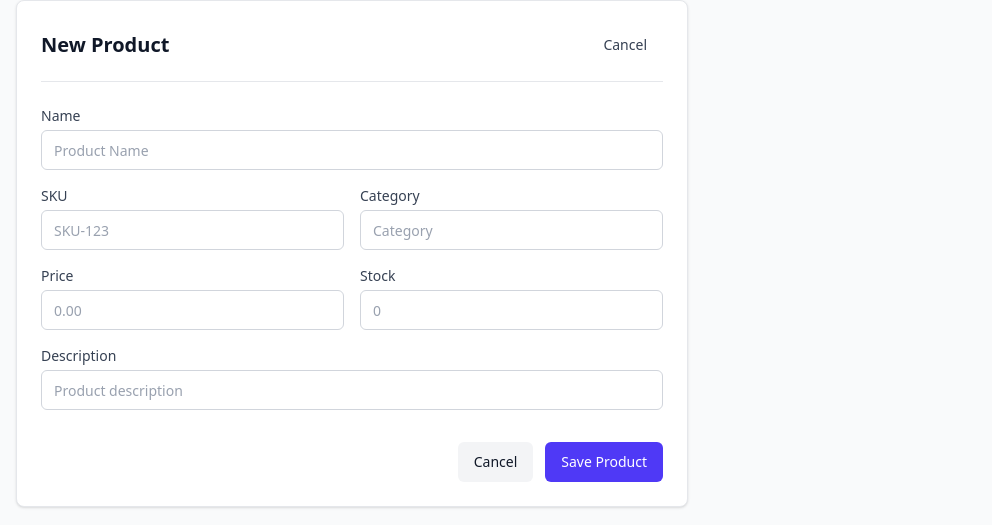
Scenario: ProductFormPage › handles submission error with message
Type "New Product" into the field labelled "Name" at coordinates (352, 150), box [41,130,663,170]
Type "SKU-1" into the field labelled "SKU" at coordinates (192, 230), box [41,210,344,250]
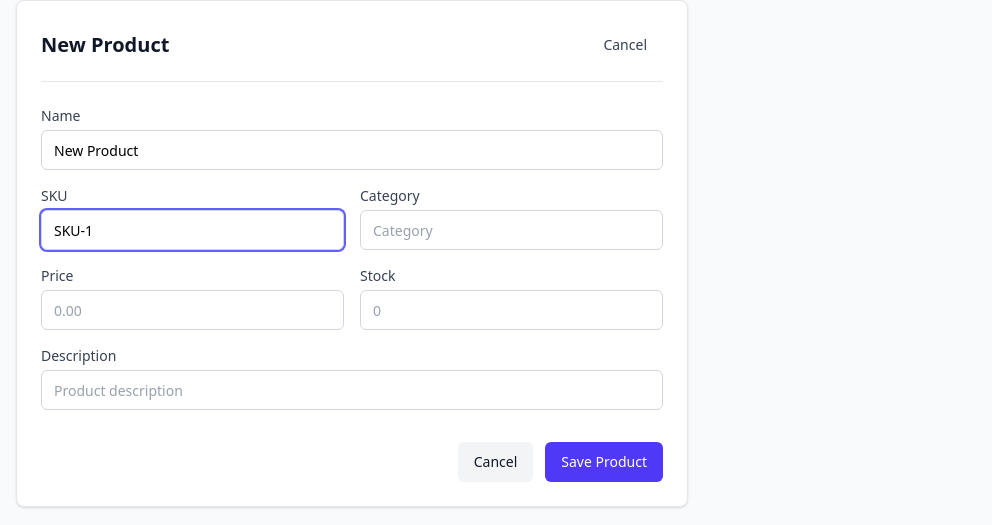
Type "C1" into the field labelled "Category" at coordinates (512, 230), box [360,210,663,250]
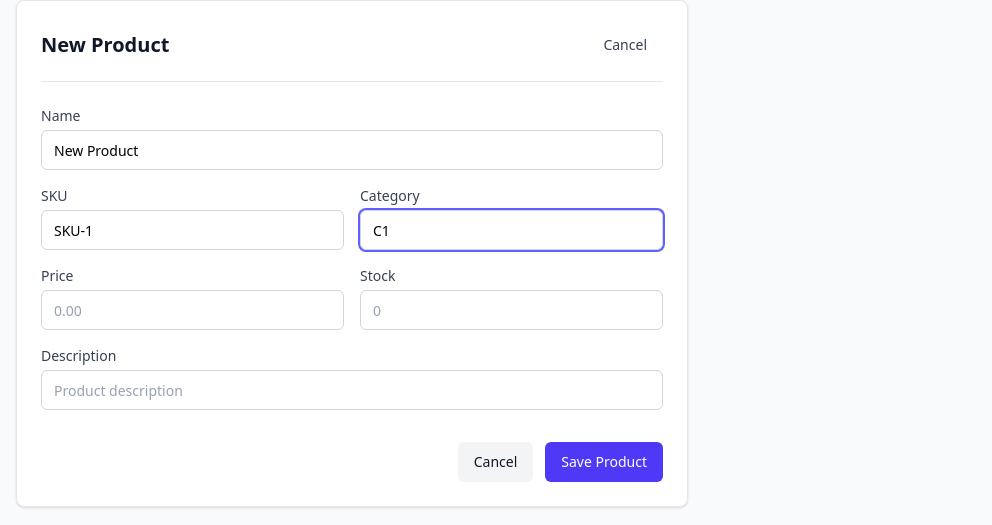
Type "150" into the number field labelled "Price" at coordinates (192, 310), box [41,290,344,330]
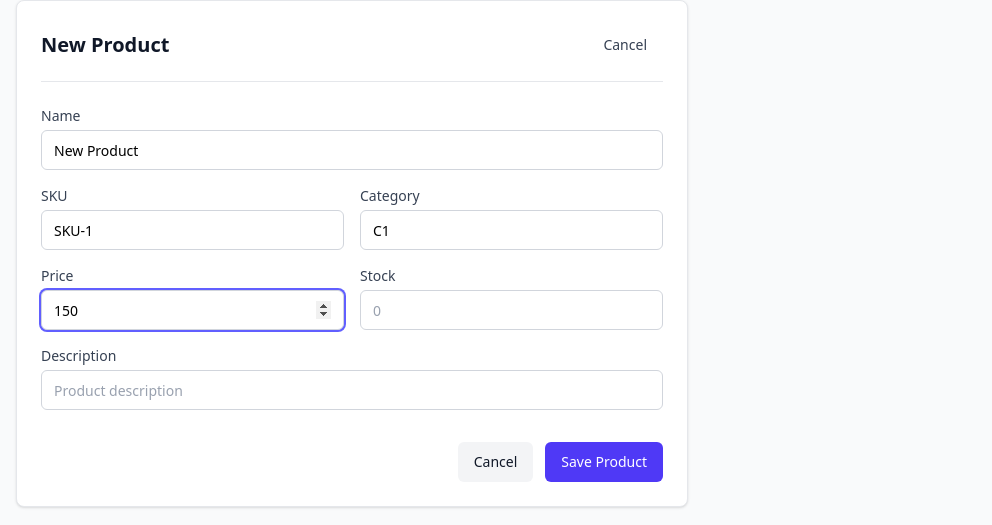
Type "10" into the number field labelled "Stock" at coordinates (512, 310), box [360,290,663,330]
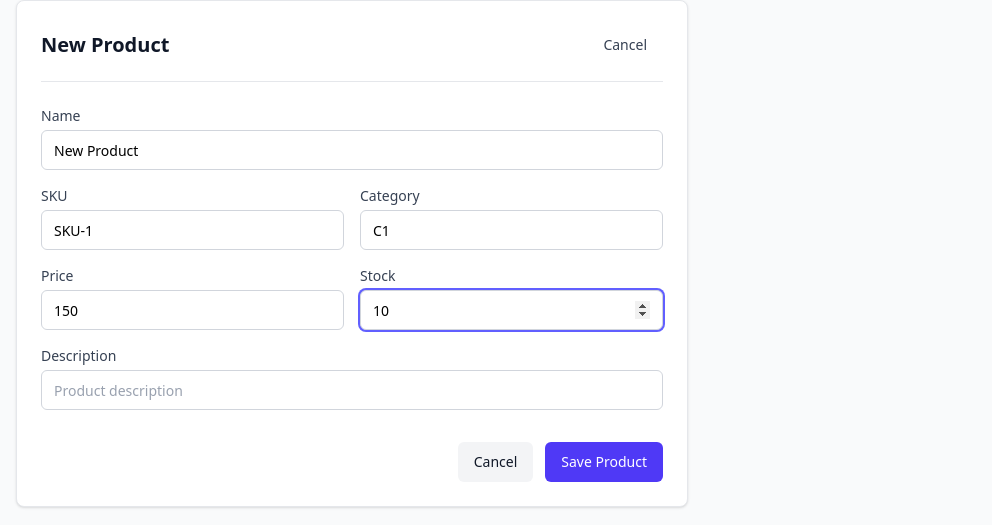
Type "Desc" into the field labelled "Description" at coordinates (352, 390), box [41,370,663,410]
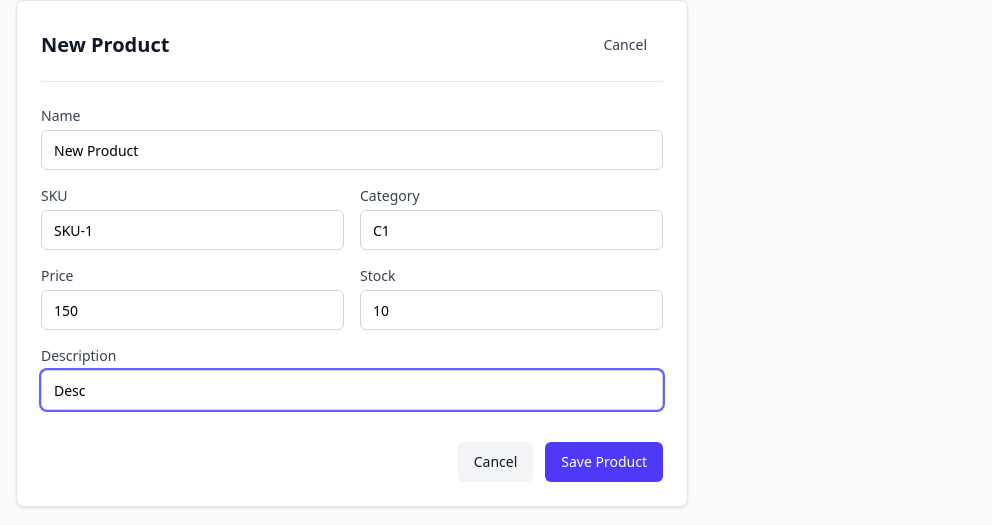
Click the button "Save Product" at coordinates (604, 462), box [545,442,663,482]
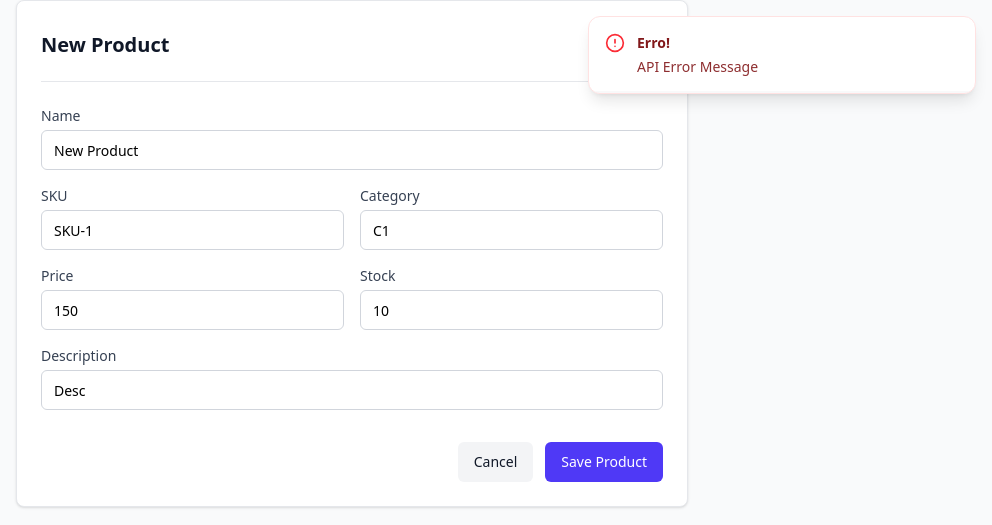
Result: the text "API Error Message" is shown at [637,57,758,77]
